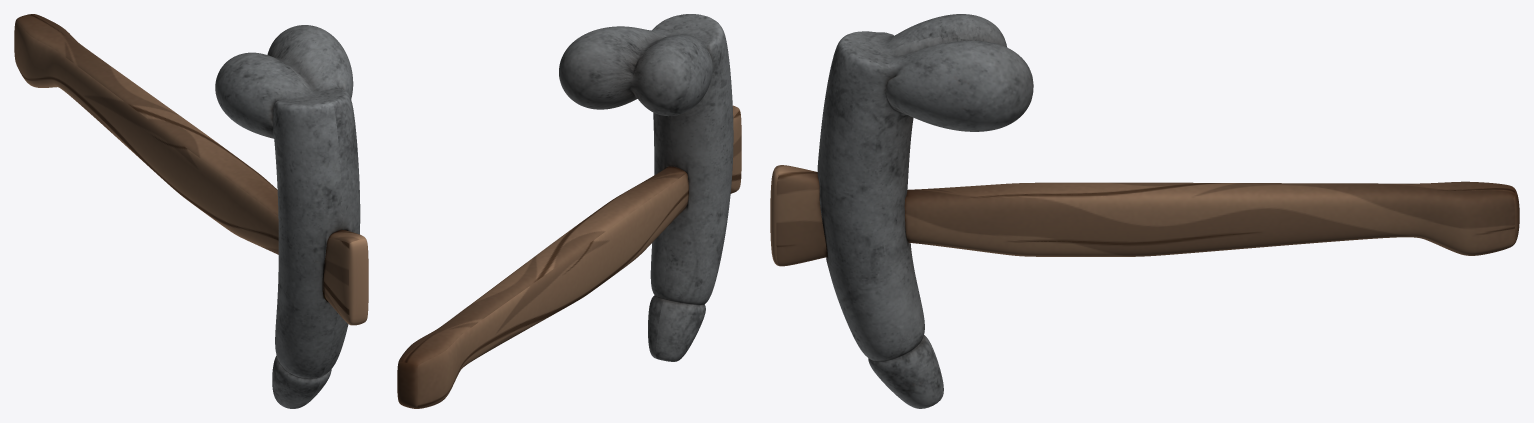
File: SM_Kirk_001.FBX
3 views of the same model, side by side, from view 1: azimuth 30°, elevation 25°; view 2: azimuth 150°, elevation 25°; view 3: azimuth 270°, elevation 25° (orthographic). The views are drawn at different scales.
Parts seen in each view (by area): view 1: SM_Kirk_001; view 2: SM_Kirk_001; view 3: SM_Kirk_001.
Part boxes in pixels (box(x1,y1,x2,y2)): SM_Kirk_001: box(14, 14, 368, 408); SM_Kirk_001: box(397, 14, 741, 408); SM_Kirk_001: box(770, 14, 1519, 408).
Bounding box in the file's own units: 287 × 737 × 1309.
1 material, 1 textured.
